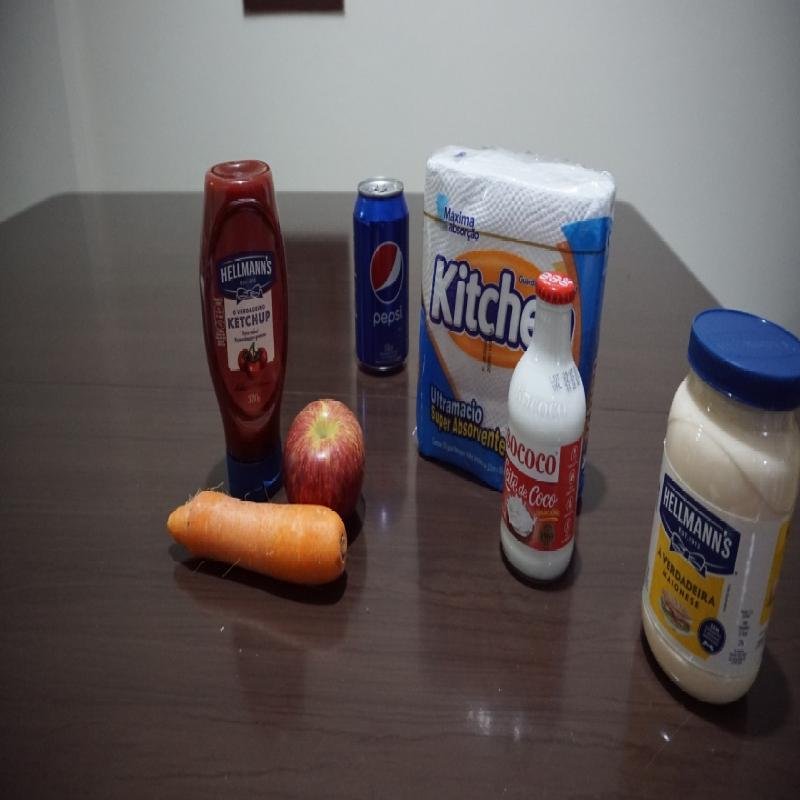Apple: (284, 395, 366, 535)
Carrot: (163, 481, 348, 591)
Coconut Milk: (499, 269, 586, 587)
Ketchup: (198, 153, 290, 501)
Mayonnaise: (640, 309, 800, 709)
Napkin: (413, 139, 616, 512)
Soda can: (351, 174, 413, 375)
